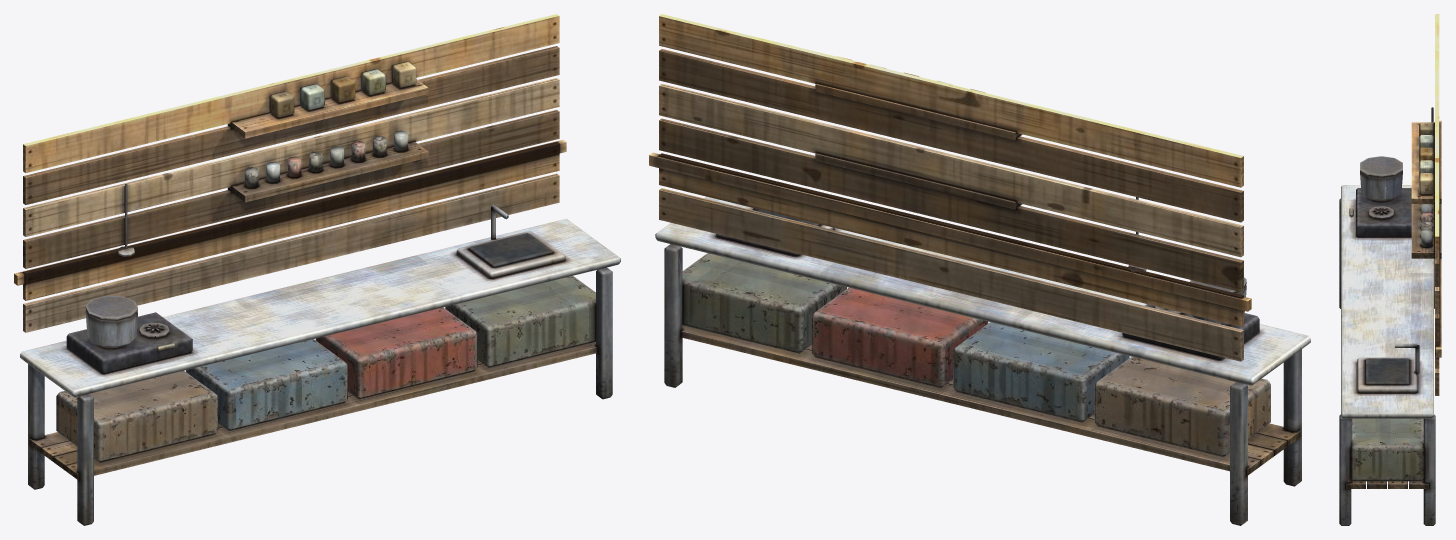
File: cozinha.glb
3 views of the same model, side by side, from view 1: azimuth 30°, elevation 25°; view 2: azimuth 150°, elevation 25°; view 3: azimuth 270°, elevation 25° (orthographic). The views are drawn at different scales.
Parts seen in each view (by area): view 1: cozinha; view 2: cozinha; view 3: cozinha.
Part boxes in pixels (box(x1,y1,x2,y2)): cozinha: box(14, 14, 620, 525); cozinha: box(649, 14, 1310, 525); cozinha: box(1339, 14, 1441, 525).
Size of the model in its own units: 3.6 by 2.13 by 0.68.
Materials: 1 (1 with a texture image).
